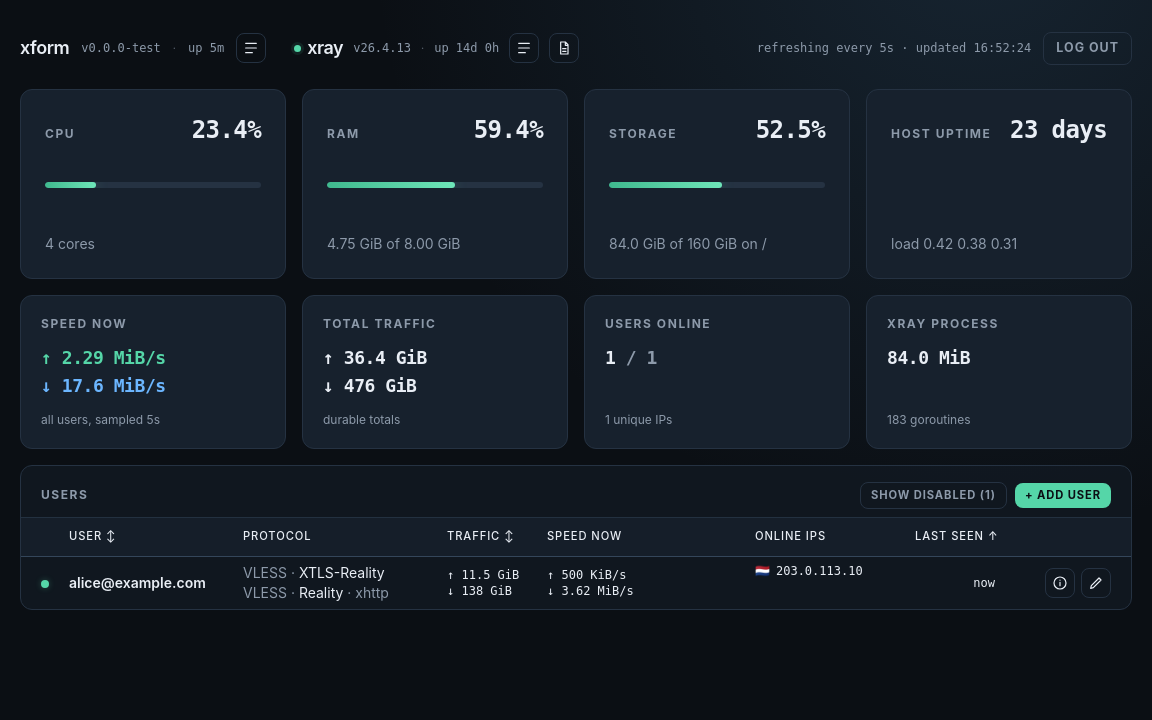
Test case: users table › hides disabled users by default and reveals them with the toggle
The width and height of the screenshot is (1152, 720).
Expected: the row "bob@example.com" is not shown
# The toggle reveals disabled users, marked as disabled.
Click the button "Show disabled (1)".
click(934, 495)  # box [860,482,1007,508]
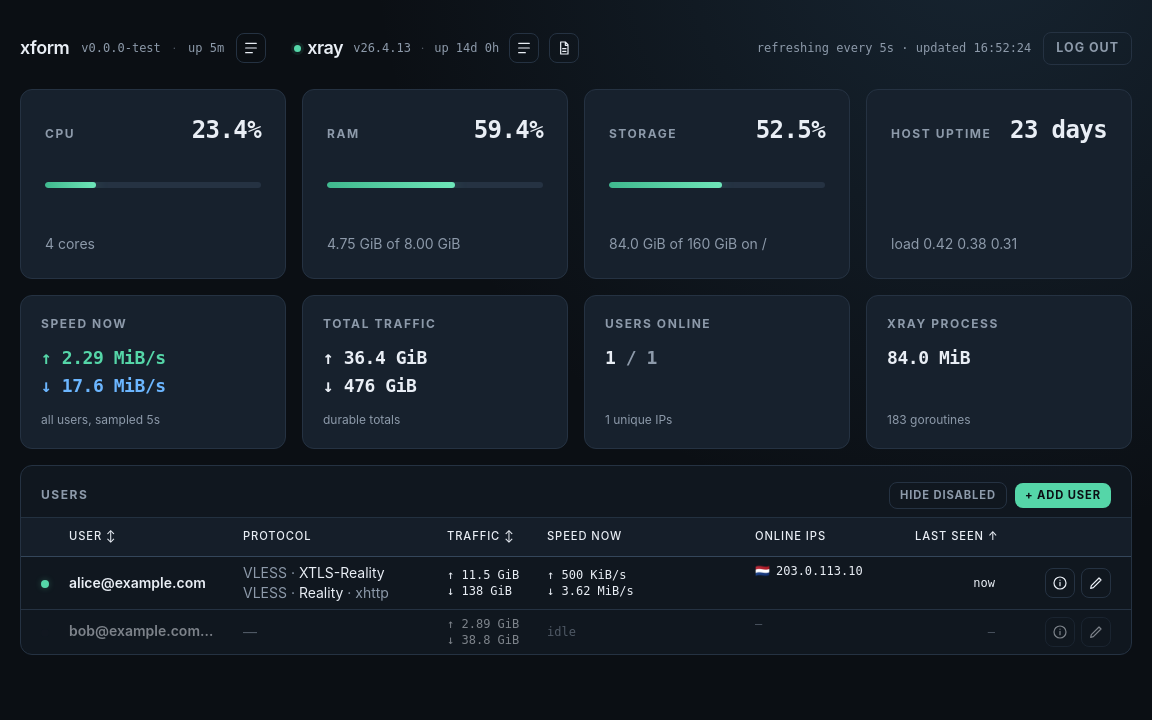
Expected: the row "bob@example.com disabled — ↑ 2.89 GiB ↓ 38.8 GiB idle — —" is shown, [21,610,1131,654]
# And hides them again.
Click the button "Hide disabled".
click(948, 495)  # box [889,482,1007,508]
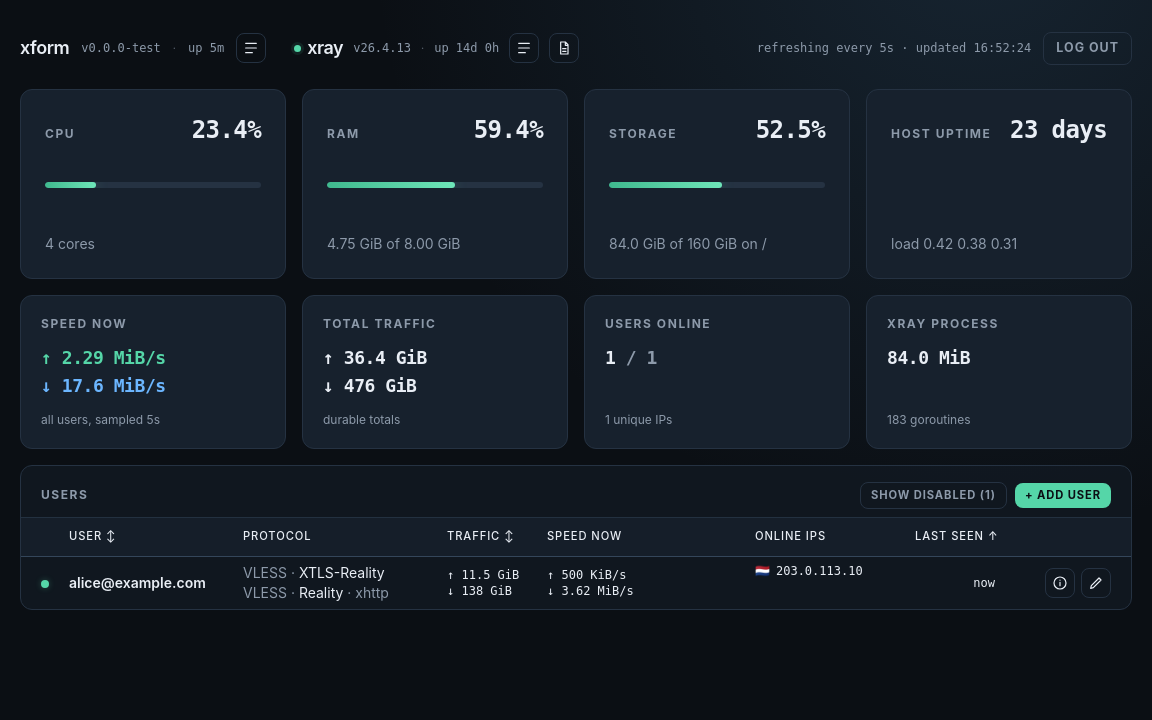
Expected: the cell "bob@example.com" is gone
